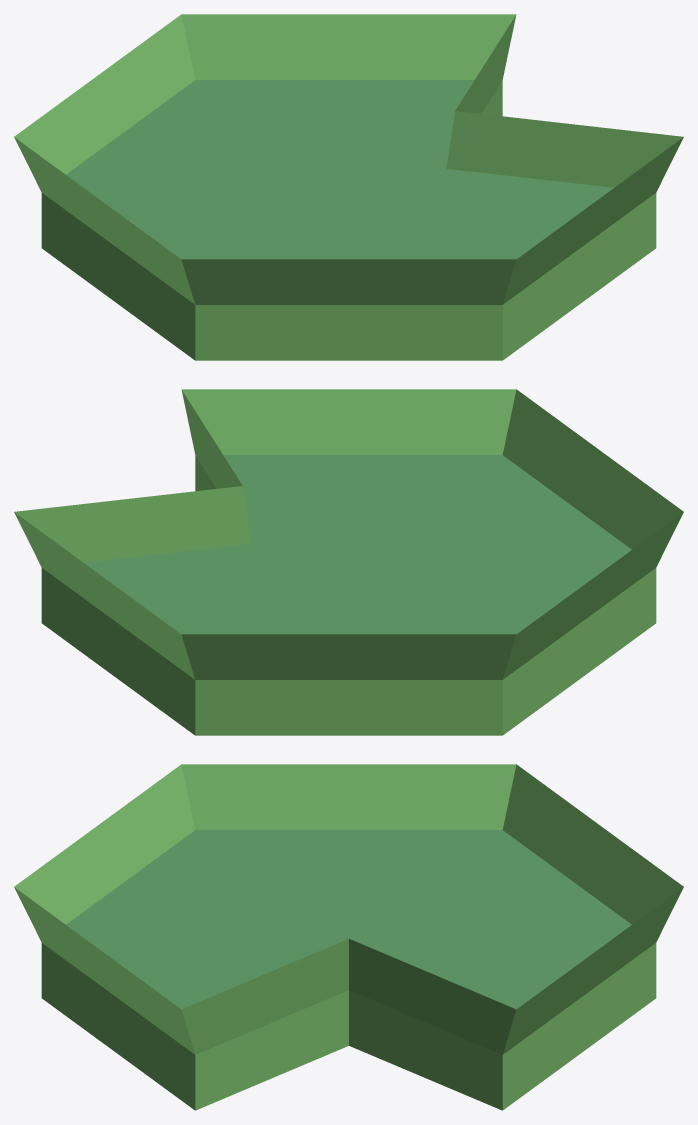
The model's file is nature_lily_small.glb.
The picture shows the model from 3 angles, top to bottom: view 1: azimuth 30°, elevation 25°; view 2: azimuth 150°, elevation 25°; view 3: azimuth 270°, elevation 25°; orthographic projection.
Visible parts, largest first — view 1: lily_small; view 2: lily_small; view 3: lily_small.
Boxes of the visible parts, <box> form: lily_small: <box>14,14,683,360</box>; lily_small: <box>14,389,683,735</box>; lily_small: <box>14,764,683,1110</box>.
Bounding box in the file's own units: 0.4909 × 0.104 × 0.5668.
